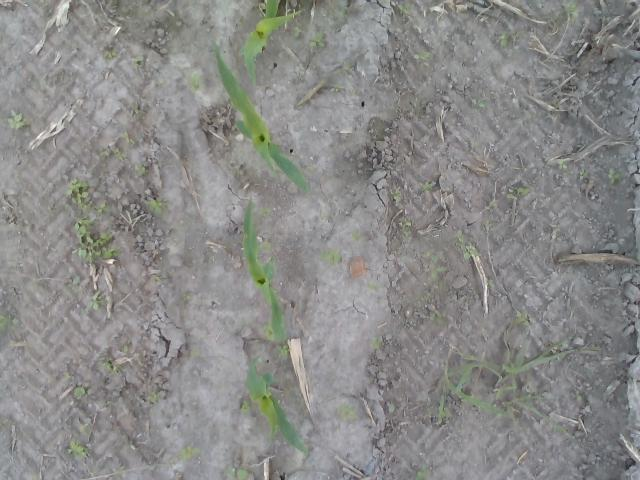Maize: (212, 46, 310, 194), (242, 354, 310, 457), (244, 198, 288, 344), (238, 0, 303, 90)
Weeds: (74, 214, 122, 264), (64, 178, 112, 213), (144, 198, 168, 218), (68, 438, 89, 458), (7, 110, 29, 129), (225, 464, 250, 480), (336, 404, 358, 422), (319, 248, 342, 264), (506, 185, 529, 201), (421, 250, 448, 262), (0, 312, 17, 331), (309, 31, 327, 48), (431, 264, 449, 281), (414, 463, 432, 480), (608, 167, 624, 186), (102, 358, 120, 374), (398, 0, 416, 16), (512, 310, 530, 326), (182, 447, 200, 462), (64, 274, 80, 290), (565, 0, 576, 23), (88, 296, 106, 310), (264, 322, 276, 342), (73, 384, 89, 399), (412, 48, 432, 60), (463, 242, 480, 256), (191, 72, 204, 90), (401, 218, 412, 239), (111, 465, 126, 480), (369, 335, 384, 350), (112, 147, 128, 161), (416, 180, 432, 193), (471, 97, 488, 109), (239, 400, 251, 416), (146, 390, 159, 404), (98, 148, 112, 161), (500, 30, 510, 48), (454, 230, 464, 247), (258, 207, 273, 217), (134, 164, 146, 176), (104, 50, 118, 60), (292, 25, 302, 39), (432, 310, 446, 320), (329, 83, 343, 92), (262, 241, 272, 253), (79, 424, 91, 434), (181, 292, 193, 302), (558, 158, 568, 170), (278, 346, 288, 358), (125, 135, 136, 145), (392, 191, 402, 202), (545, 15, 560, 22), (151, 274, 161, 284), (351, 231, 361, 241), (368, 280, 378, 290), (485, 279, 496, 288), (488, 199, 498, 208), (386, 403, 396, 412), (344, 64, 354, 72), (576, 390, 584, 400), (0, 418, 8, 427), (579, 168, 588, 176), (132, 57, 140, 64)
